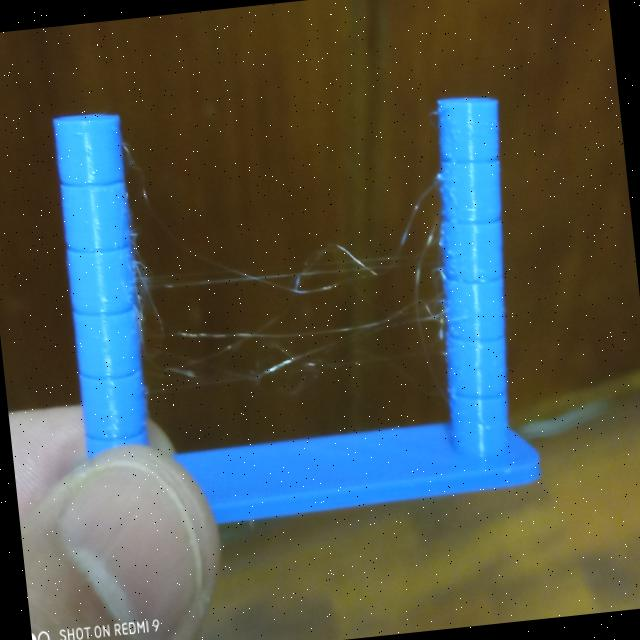stringing: (129, 148, 477, 416)
